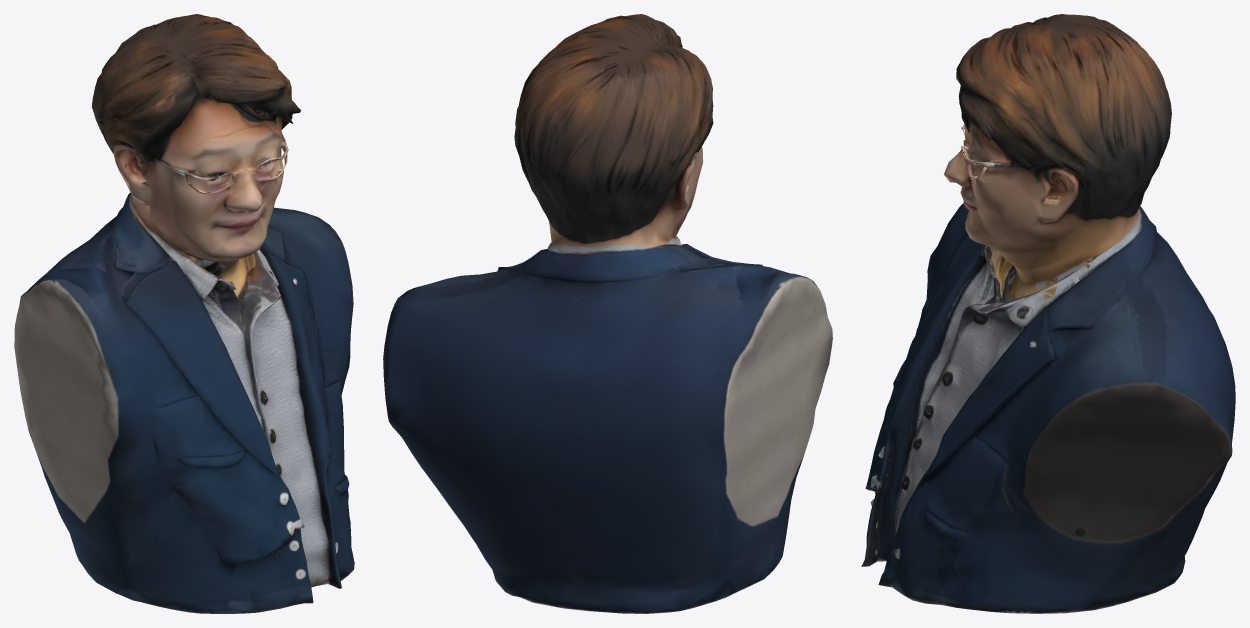
Rendered from pmjung.glb.
3 views of the same model, side by side, from view 1: azimuth 30°, elevation 25°; view 2: azimuth 150°, elevation 25°; view 3: azimuth 270°, elevation 25° (orthographic). The views are drawn at different scales.
Parts seen in each view (by area): view 1: Mesh1.0; view 2: Mesh1.0; view 3: Mesh1.0.
Boxes of the visible parts, left/top/right/bottom form: Mesh1.0: left=14, top=14, right=354, bottom=613; Mesh1.0: left=383, top=14, right=832, bottom=613; Mesh1.0: left=861, top=14, right=1235, bottom=613.
Size of the model in its own units: 1.25 by 1.9 by 1.21.
1 material, 1 textured.
